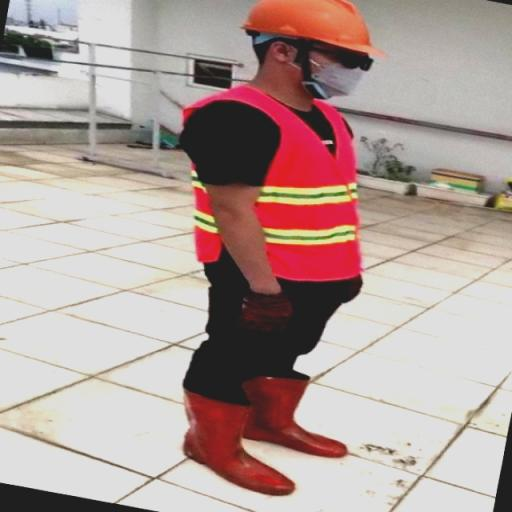Person: (173, 4, 394, 496)
boots: (174, 376, 304, 496), (235, 373, 355, 459)
gloves: (236, 284, 296, 338)
goggles: (277, 34, 382, 72)
helmet: (240, 1, 391, 54)
vest: (172, 87, 378, 291)
